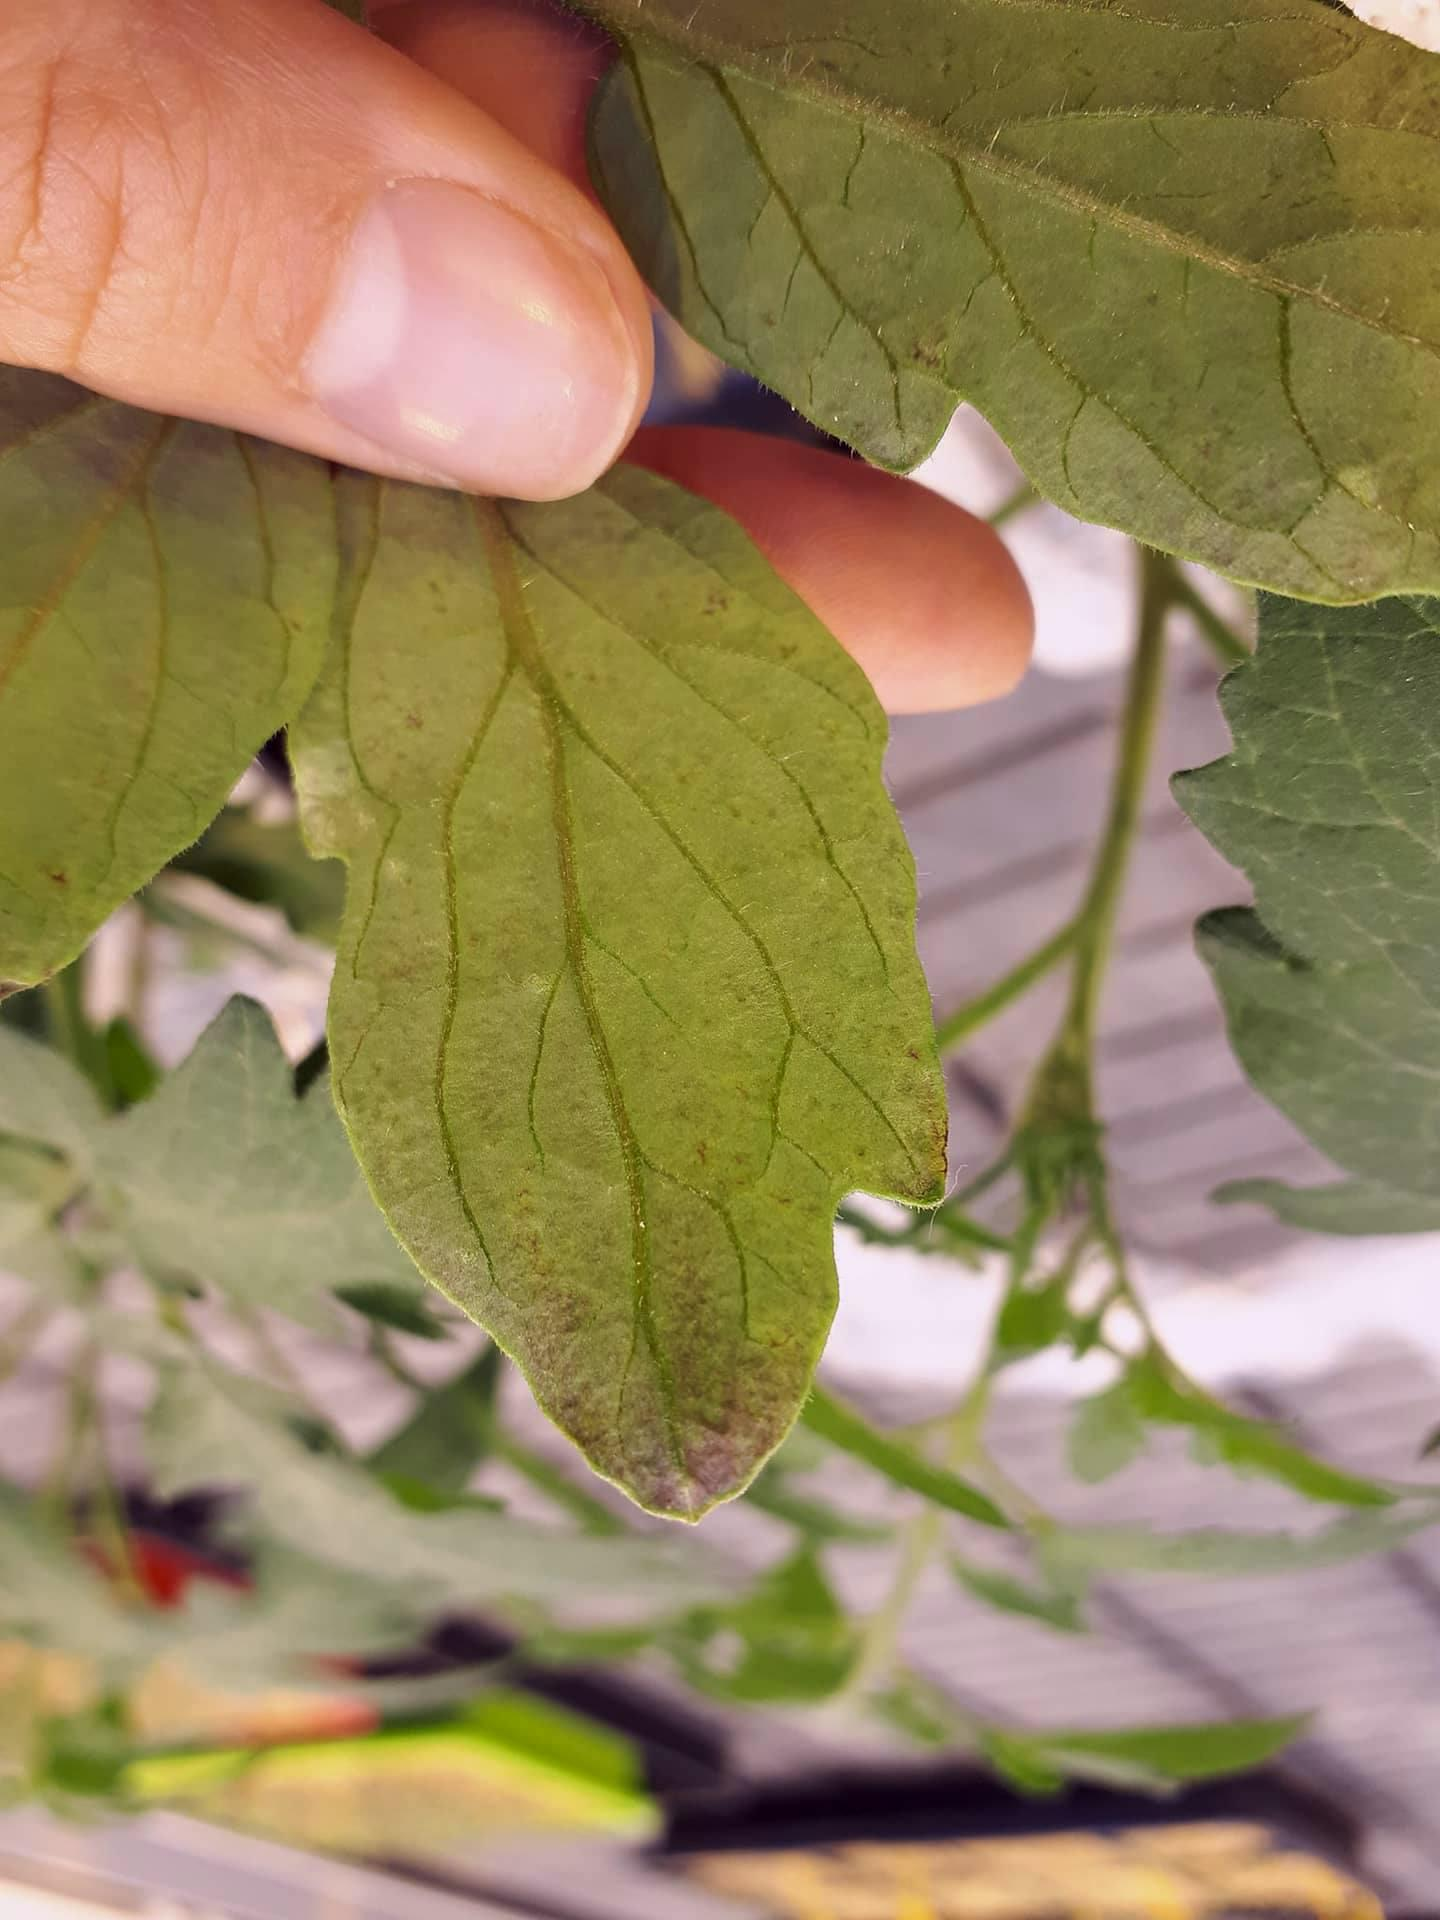Tomato mold leaf: (260, 370, 982, 1560)
